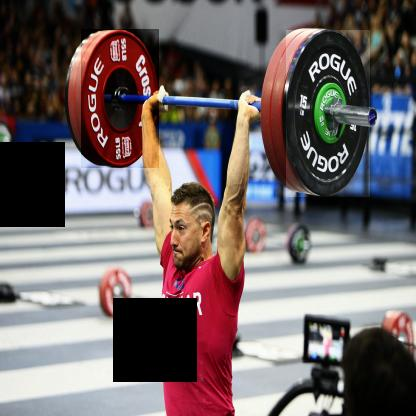barbell: (288, 31, 372, 198), (82, 30, 160, 169)
